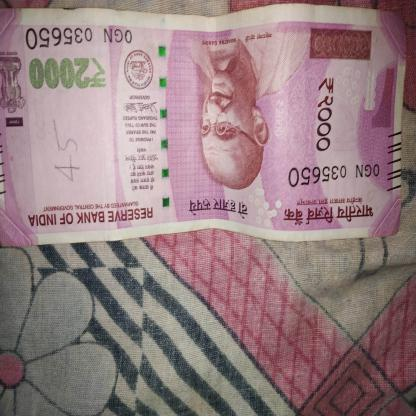New2000Front: (2, 11, 404, 236)
